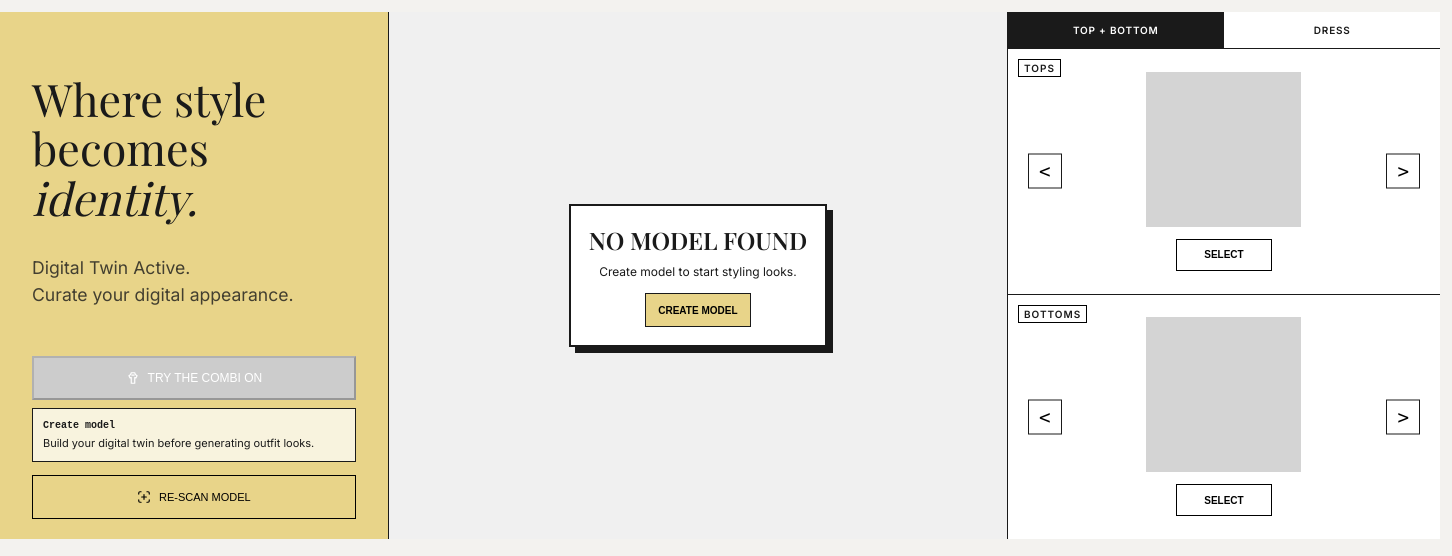
Wardrobe states › shows the dress empty state when no dress is in the closet
Click the button "DRESS" at (1332, 30), box [1224,12,1440,48]
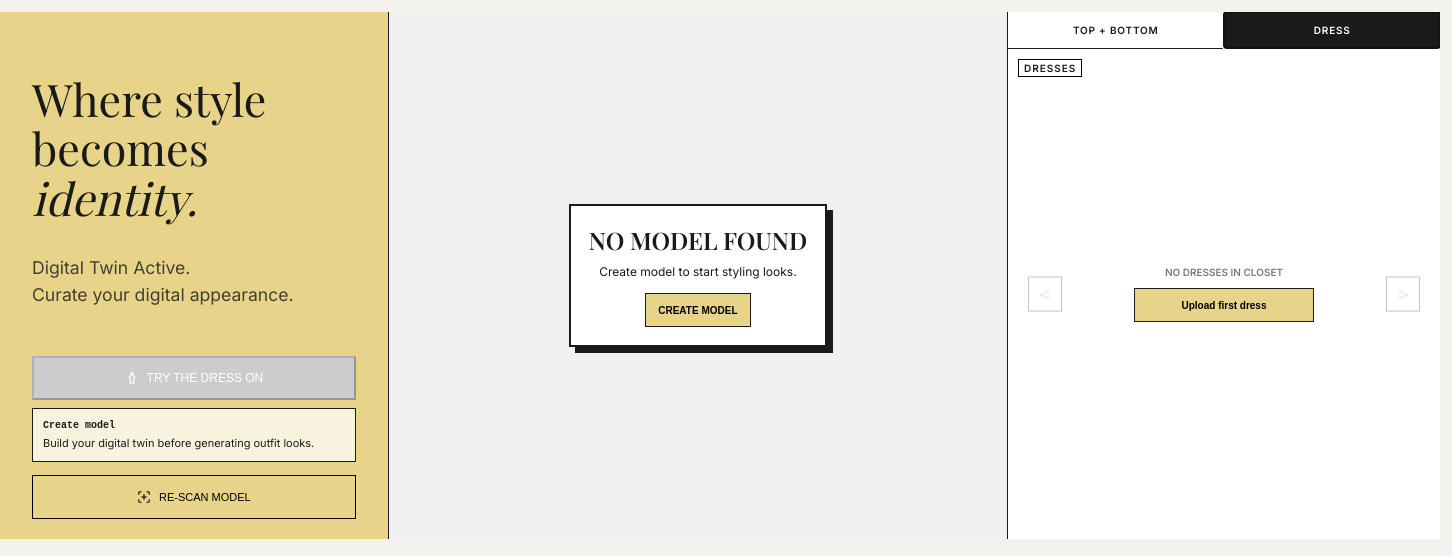
Result: the button "Upload first dress" is shown at [1134,288,1314,322]
